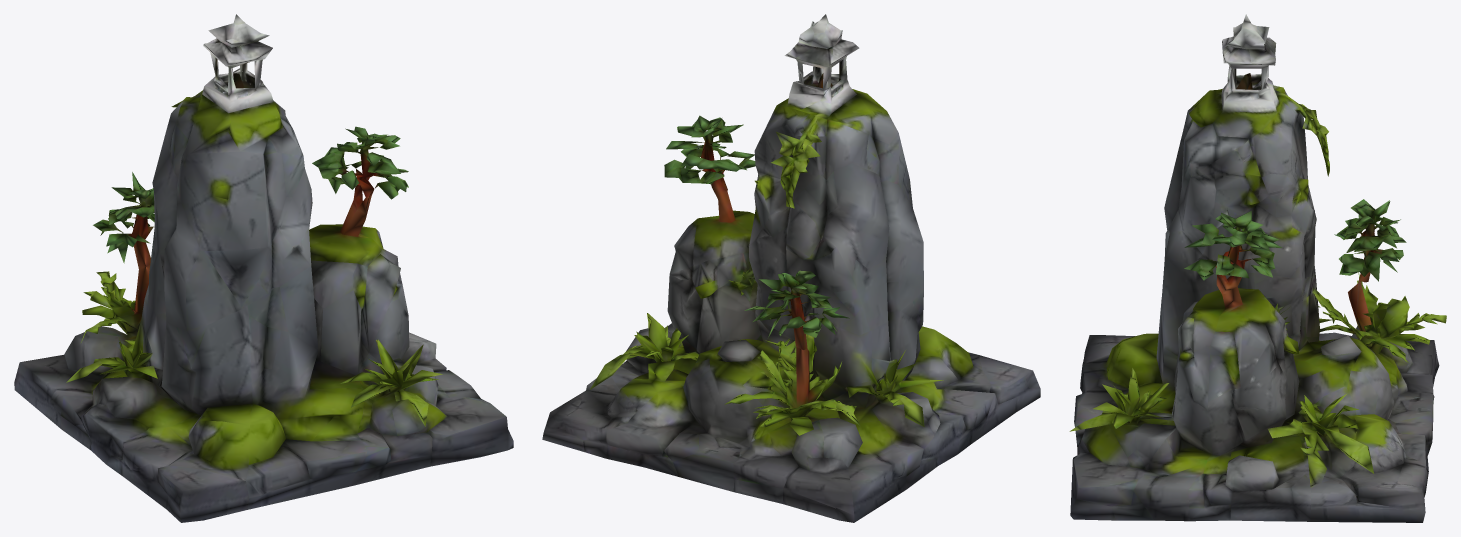
The model's file is rockery.glb.
3 views of the same model, side by side, from view 1: azimuth 30°, elevation 25°; view 2: azimuth 150°, elevation 25°; view 3: azimuth 270°, elevation 25° (orthographic).
Parts seen in each view (by area): view 1: tripo_node_1eb4293b-c5e5-48d3-8f33-8c071c5bfee3; view 2: tripo_node_1eb4293b-c5e5-48d3-8f33-8c071c5bfee3; view 3: tripo_node_1eb4293b-c5e5-48d3-8f33-8c071c5bfee3.
Part boxes in pixels (x1,y1,x2,y2): tripo_node_1eb4293b-c5e5-48d3-8f33-8c071c5bfee3: (14, 14, 513, 522); tripo_node_1eb4293b-c5e5-48d3-8f33-8c071c5bfee3: (542, 14, 1040, 522); tripo_node_1eb4293b-c5e5-48d3-8f33-8c071c5bfee3: (1069, 14, 1446, 522).
Bounding box in the file's own units: 0.8221 × 0.9789 × 0.807.
Materials: 1 (1 with a texture image).
